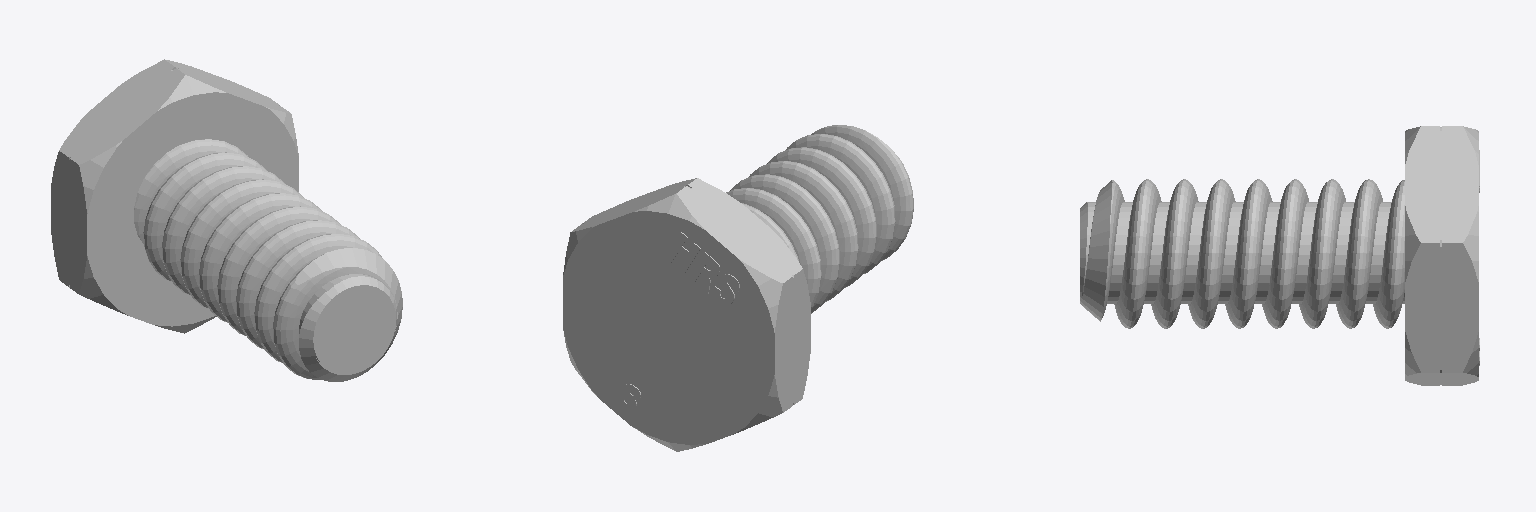
Rendered from bolt.obj.
The picture shows the model from 3 angles: view 1: azimuth 30°, elevation 25°; view 2: azimuth 150°, elevation 25°; view 3: azimuth 270°, elevation 25°; orthographic projection.
Parts seen in each view (by area): view 1: obj_0; view 2: obj_0; view 3: obj_0.
Boxes of the visible parts, box(x1,y1,x2,y2) form: obj_0: box(51, 59, 402, 381); obj_0: box(563, 125, 913, 451); obj_0: box(1080, 126, 1479, 385).
Size of the model in its own units: 100 by 118 by 164.